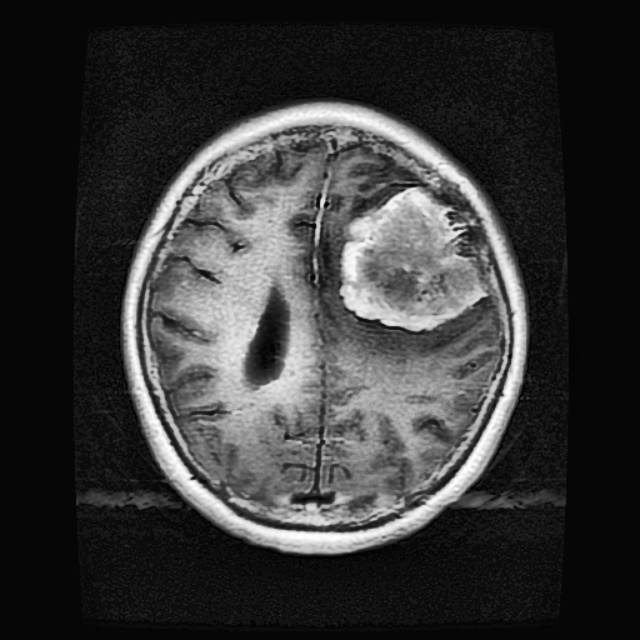Pituitary: (339, 184, 489, 330)
